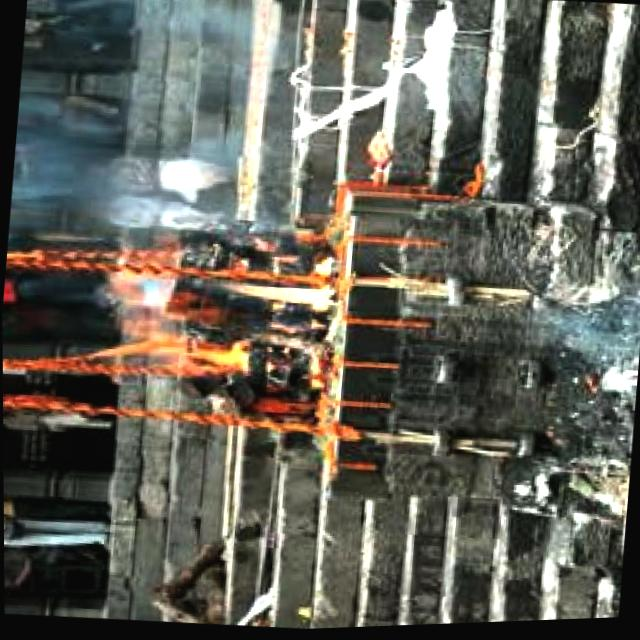helmet: (80, 265, 339, 399)
